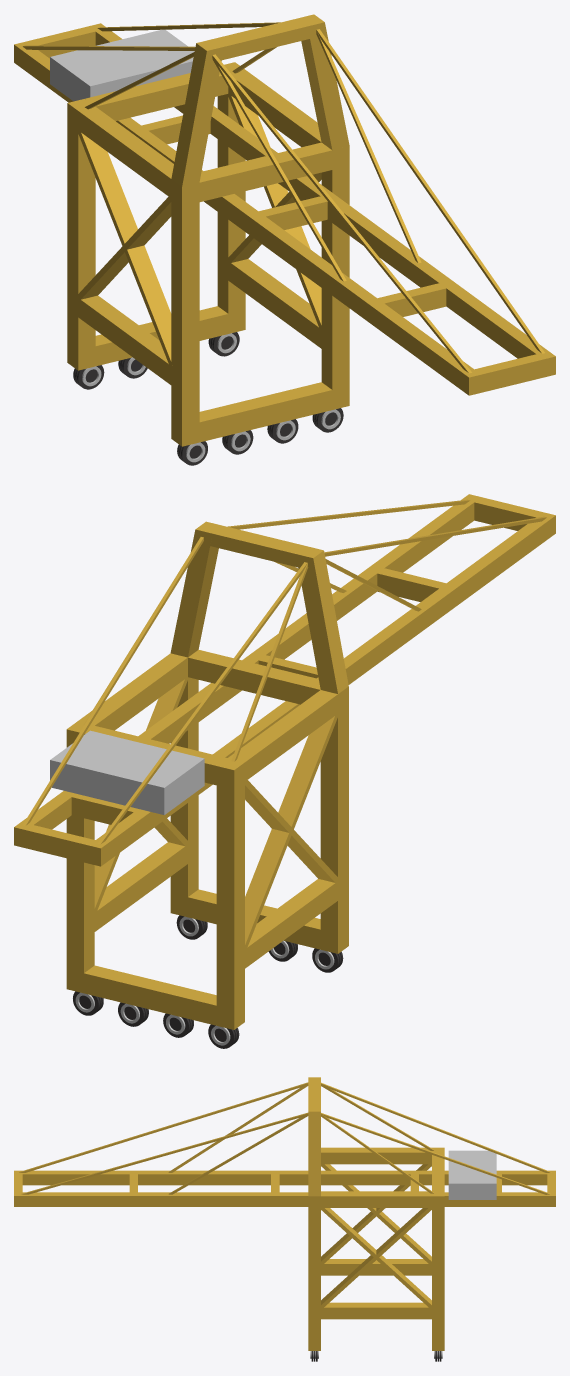
3 renders of one model, top to bottom at view 1: azimuth 30°, elevation 25°; view 2: azimuth 150°, elevation 25°; view 3: azimuth 270°, elevation 25°, orthographic. The views are drawn at different scales.
Parts seen in each view (by area): view 1: 立方体.1, 立方体.31, 管道.1_4, 管道.1, 管道.1_7, 管道.1_3, 管道.1_5, 管道.1_6; view 2: 立方体.1, 立方体.31; view 3: 立方体.1, 立方体.31.
Boxes of the visible parts, x1,y1,x2,y2 form: 立方体.1: (14, 14, 555, 446); 立方体.31: (50, 29, 194, 101); 管道.1_4: (177, 441, 207, 465); 管道.1: (73, 365, 104, 389); 管道.1_7: (312, 408, 343, 432); 管道.1_3: (208, 332, 239, 356); 管道.1_5: (222, 430, 253, 454); 管道.1_6: (267, 419, 298, 443); 立方体.1: (14, 494, 555, 1029); 立方体.31: (50, 730, 204, 815); 立方体.1: (14, 1077, 555, 1350); 立方体.31: (448, 1150, 496, 1199).
Bounding box in the file's own units: 18.19 × 42.96 × 85.57.
